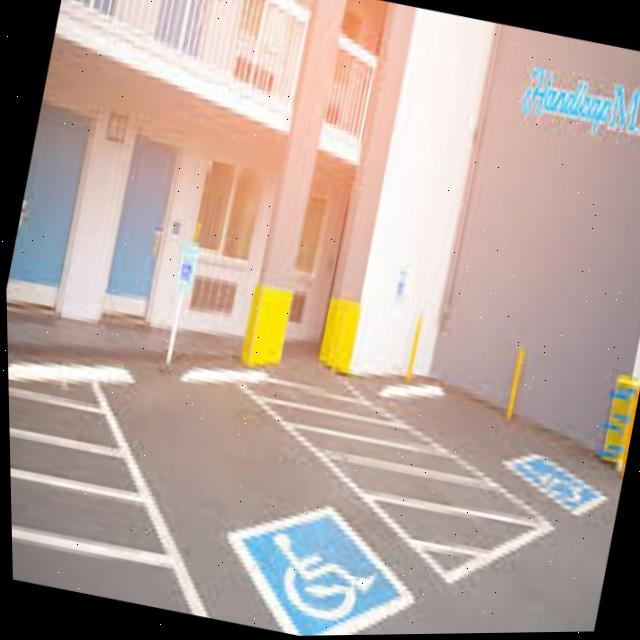symbol_of_access: (253, 515, 388, 632), (501, 443, 593, 522), (177, 262, 191, 283), (393, 281, 402, 297)
